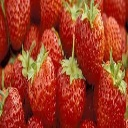strawberry: (55, 45, 87, 128), (74, 1, 105, 82), (27, 48, 57, 125), (95, 58, 127, 128), (0, 83, 24, 128)
